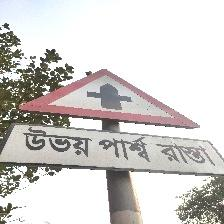Crossroad: (0, 64, 224, 193)
